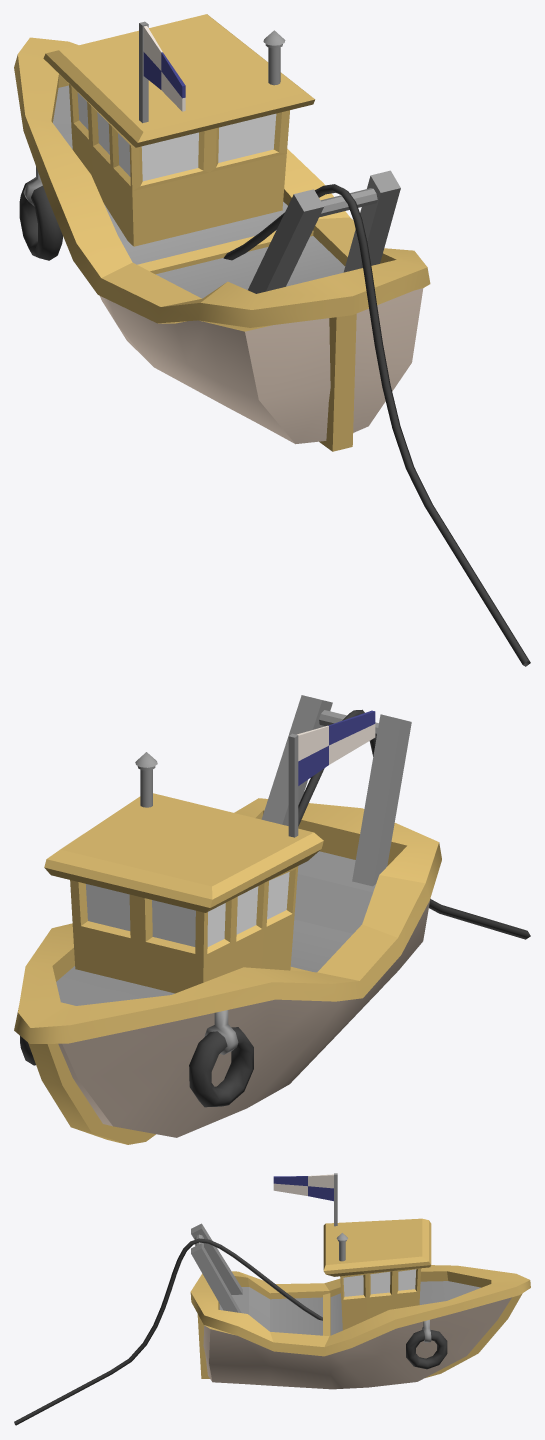
File: M_FishingBoat_Ship_Nameless.fbx
3 renders of one model, top to bottom at view 1: azimuth 30°, elevation 25°; view 2: azimuth 150°, elevation 25°; view 3: azimuth 270°, elevation 25°, orthographic. The views are drawn at different scales.
Parts seen in each view (by area): view 1: M_FishingBoat_Ship_2; view 2: M_FishingBoat_Ship_2; view 3: M_FishingBoat_Ship_2.
Part boxes in pixels (box(x1,y1,x2,y2)): M_FishingBoat_Ship_2: box(14, 14, 530, 666); M_FishingBoat_Ship_2: box(14, 695, 530, 1144); M_FishingBoat_Ship_2: box(14, 1173, 530, 1425).
Size of the model in its own units: 463 by 761 by 1540.
